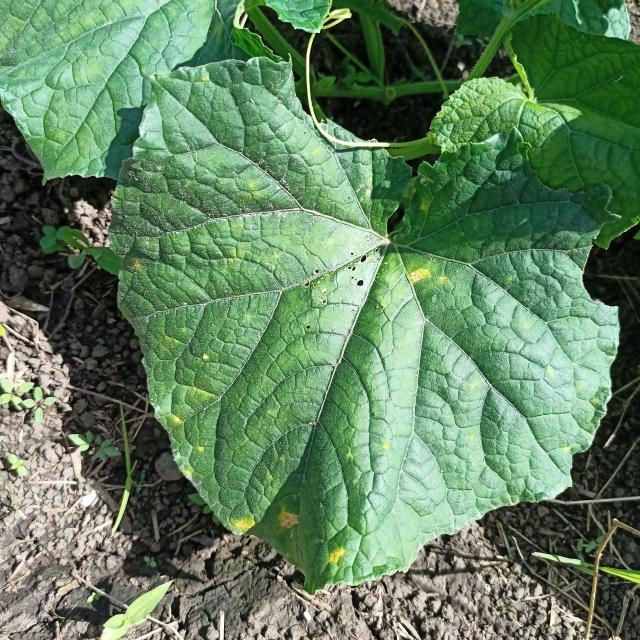disease_cucumber: (278, 507, 300, 535), (409, 266, 432, 288), (232, 515, 257, 534), (326, 546, 346, 568), (548, 364, 555, 375)
